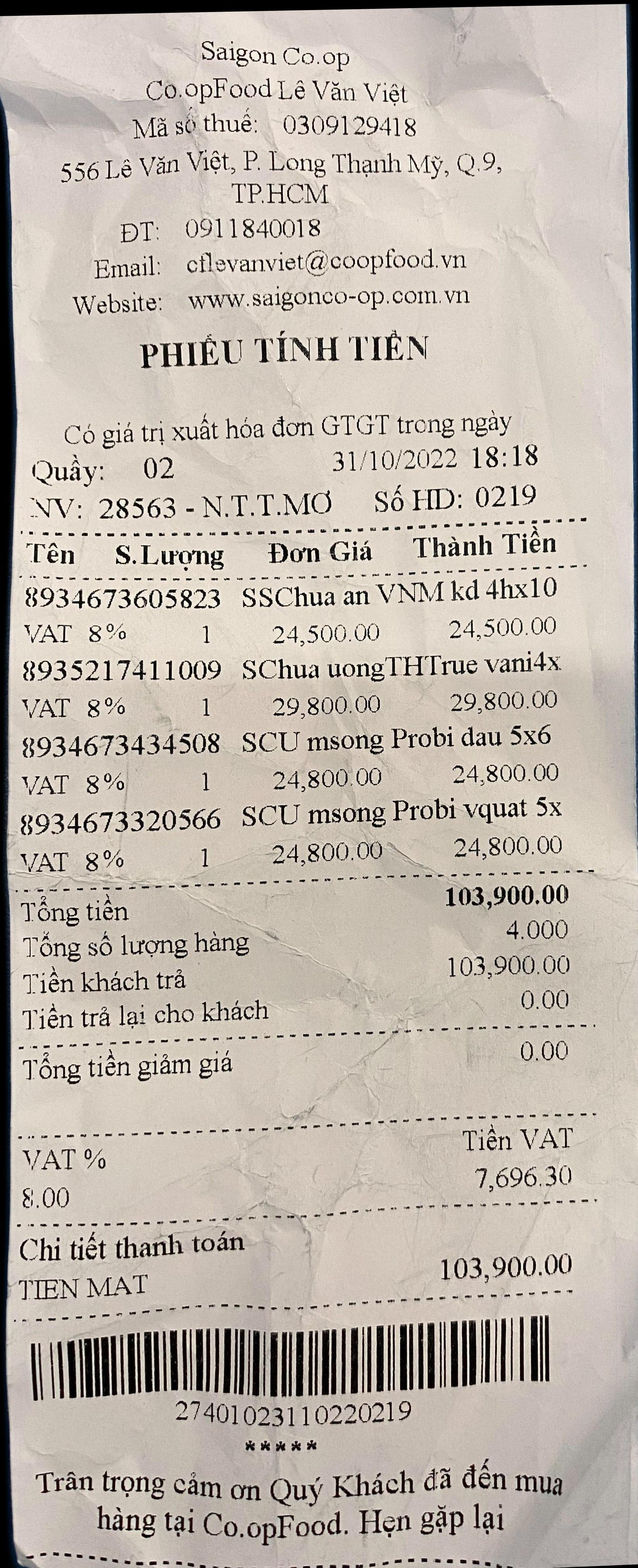Date: (311, 440, 466, 479)
Store_Name: (180, 23, 406, 78)
Total_Amount: (2, 878, 592, 931)
